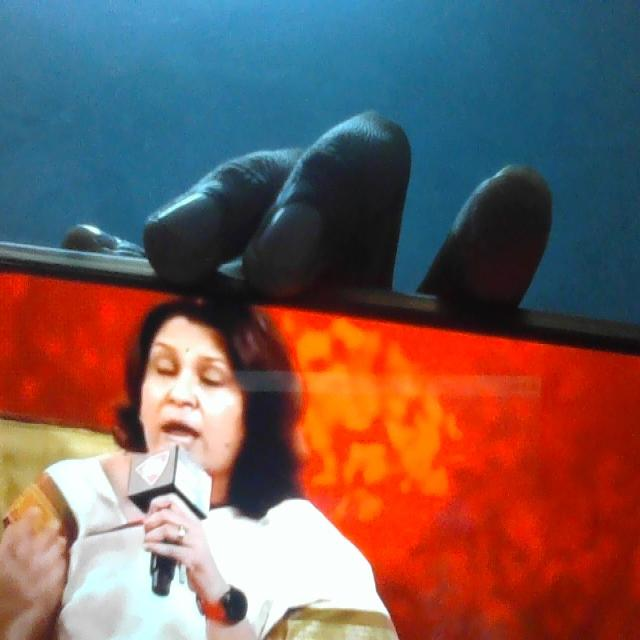fake: (134, 266, 263, 510)
